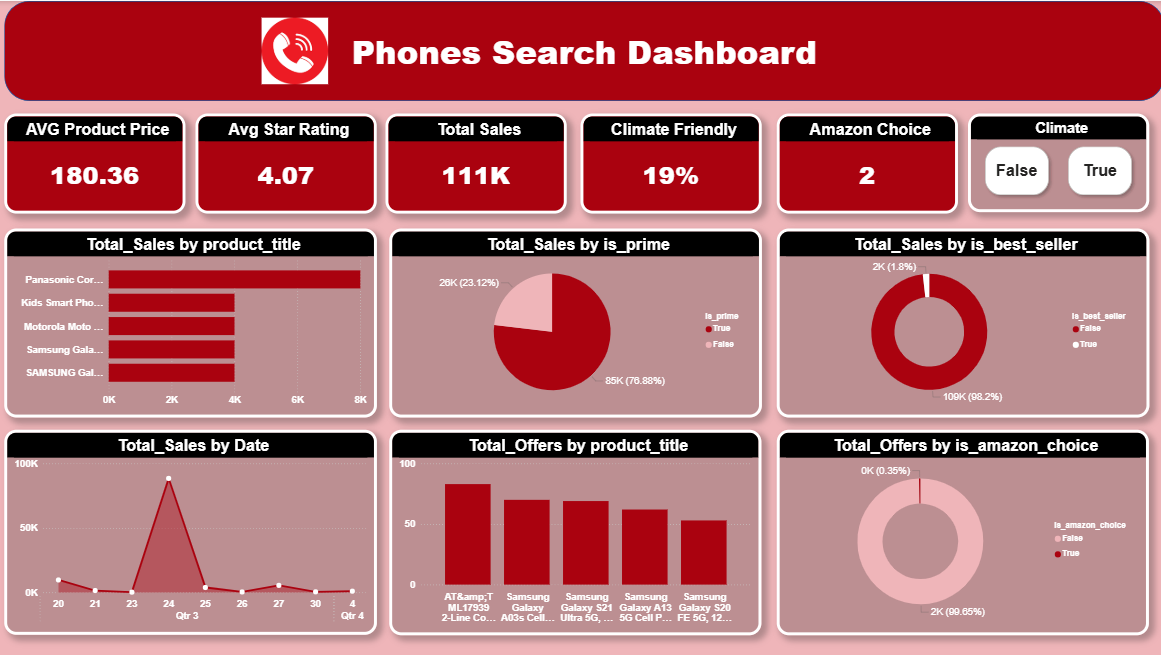

The page's visual inventory and layout, read from the dashboard file:
{"tool":"powerbi","page":{"name":"Phone Search Dashboard","canvas":[1920,1080],"ordinal":0},"visuals":[{"type":"shape","box":[10.3,0,1910.1,164.7],"z":0},{"type":"cardVisual","title":"AVG Product Price","fields":{"Data":["phone search (1).Avg_Product_Price"]},"box":[10.3,185.2,298.5,164.7],"z":1000},{"type":"cardVisual","title":"Avg Star Rating","fields":{"Data":["phone search (1).Avg_Star_Rating"]},"box":[325.2,185.2,298.5,164.7],"z":2000},{"type":"cardVisual","title":"Total Sales","fields":{"Data":["phone search (1).Total_Sales_Volume"]},"box":[638.1,185.2,298.5,164.7],"z":3000},{"type":"cardVisual","title":"Amazon Choice","fields":{"Data":["phone search (1).Amazon_Choice_Count"]},"box":[1282.3,185.2,298.5,164.7],"z":5000},{"type":"cardVisual","title":"Climate Friendly","fields":{"Data":["phone search (1).Climate_Friendly_Pct"]},"box":[959.2,185.2,298.5,164.7],"z":6000},{"type":"clusteredBarChart","title":"Total_Sales by product_title","fields":{"Y":["phone search (1).Total_Sales_Volume"],"Category":["phone search (1).product_title"]},"box":[10.3,374.6,613.4,310.8],"z":7000},{"type":"pieChart","title":"Total_Sales by is_prime","fields":{"Category":["phone search (1).is_prime"],"Y":["phone search (1).Total_Sales_Volume"]},"box":[644.3,374.6,613.4,310.8],"z":8000},{"type":"lineChart","title":"Total_Sales by Date","fields":{"Y":["phone search (1).Total_Sales_Volume"],"Category":["phone search (1).deliveryDate.Variation.Date Hierarchy.Quarter","phone search (1).deliveryDate.Variation.Date Hierarchy.Day"]},"box":[10.3,706,613.4,337.6],"z":9000},{"type":"advancedSlicerVisual","title":"Climate","fields":{"Values":["phone search (1).climate_pledge_friendly"]},"box":[1597.3,185.2,298.5,162.6],"z":9001},{"type":"clusteredColumnChart","fields":{"Y":["phone search (1).Total_Offers"],"Category":["phone search (1).product_title"]},"box":[644,706,613,338],"z":9002},{"type":"donutChart","title":"Total_Sales by is_best_seller","fields":{"Y":["phone search (1).Total_Sales_Volume"],"Category":["phone search (1).is_best_seller"]},"box":[1282.3,374.6,613.4,310.8],"z":9003},{"type":"donutChart","fields":{"Y":["phone search (1).Total_Offers"],"Category":["phone search (1).is_amazon_choice"]},"box":[1282,706,613,338],"z":9004},{"type":"image","box":[0,0,298.5,164.7],"z":9005}]}

Visuals, with their boxes in screenshot pixels (x1, y1, x2, y2), scaled from the page's 1920x1080 canvas onto the 1161x655 screenshot:
shape: bbox=[6, 0, 1160, 100]
"AVG Product Price" cardVisual: bbox=[6, 112, 187, 212]
"Avg Star Rating" cardVisual: bbox=[197, 112, 377, 212]
"Total Sales" cardVisual: bbox=[386, 112, 566, 212]
"Amazon Choice" cardVisual: bbox=[775, 112, 956, 212]
"Climate Friendly" cardVisual: bbox=[580, 112, 761, 212]
"Total_Sales by product_title" clusteredBarChart: bbox=[6, 227, 377, 416]
"Total_Sales by is_prime" pieChart: bbox=[390, 227, 761, 416]
"Total_Sales by Date" lineChart: bbox=[6, 428, 377, 633]
"Climate" advancedSlicerVisual: bbox=[966, 112, 1146, 211]
clusteredColumnChart - phone search (1).Total_Offers x phone search (1).product_title: bbox=[389, 428, 760, 633]
"Total_Sales by is_best_seller" donutChart: bbox=[775, 227, 1146, 416]
donutChart - phone search (1).Total_Offers x phone search (1).is_amazon_choice: bbox=[775, 428, 1146, 633]
image: bbox=[0, 0, 180, 100]
